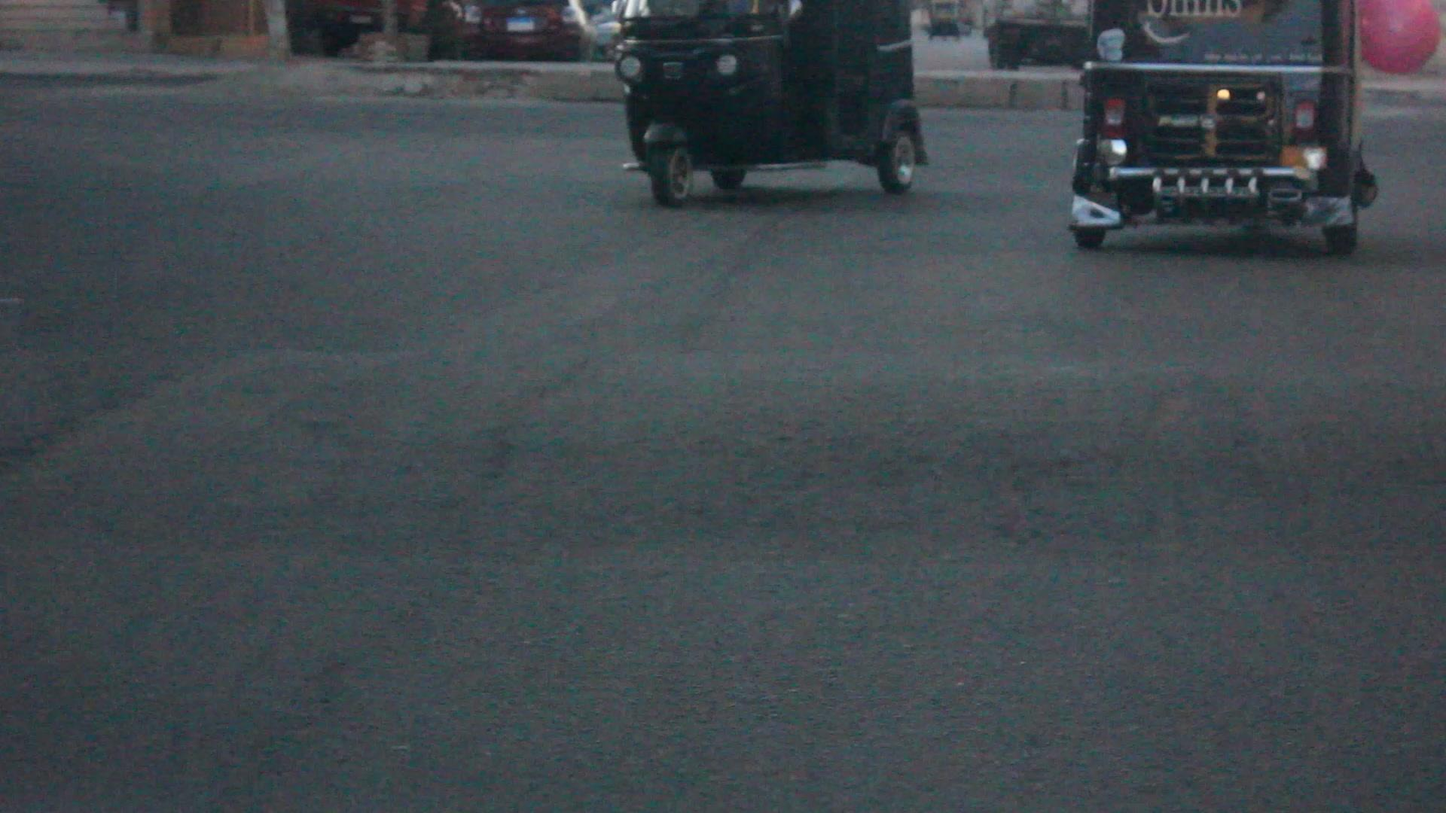Bump: (0, 338, 1445, 580)
